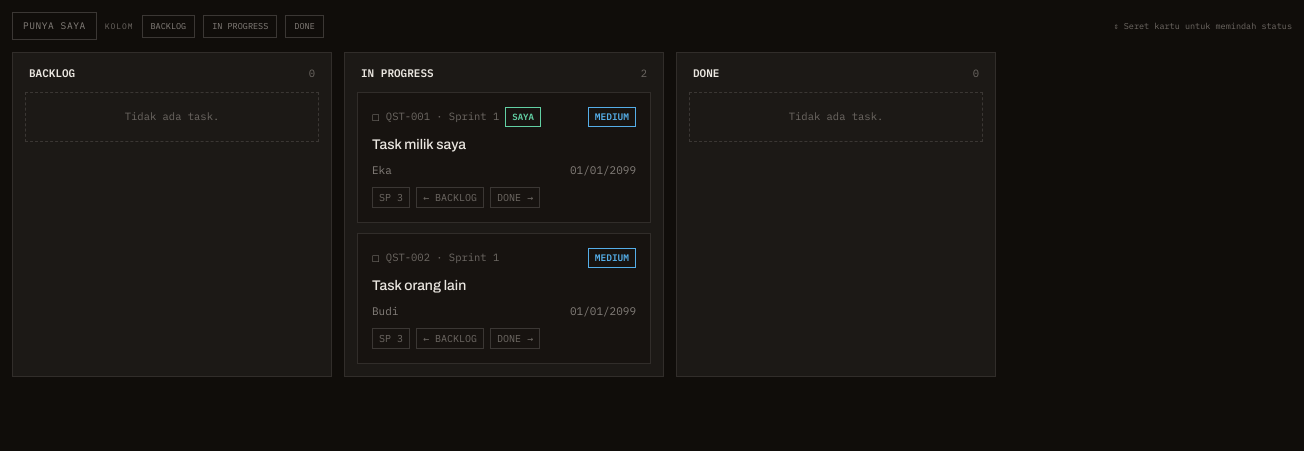
Test: KanbanBoard mode PM (regresi) › memilih task memunculkan bar bulk
Click the button "☐" next to "QST-001" at (376,117), box [372, 107, 380, 127]
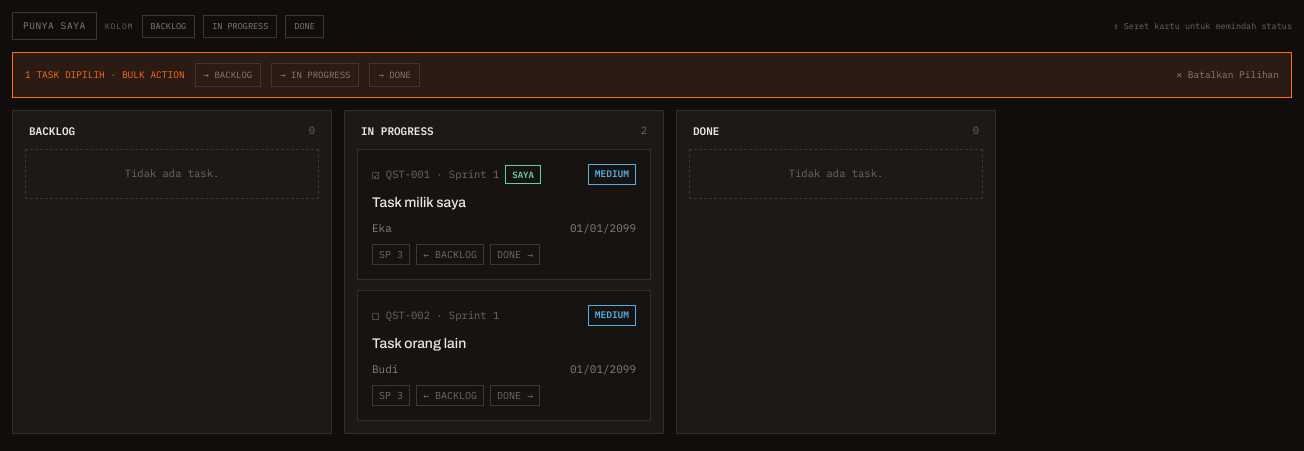
Expected: the text "1 TASK DIPILIH · BULK ACTION" is shown, [25, 68, 185, 82]
